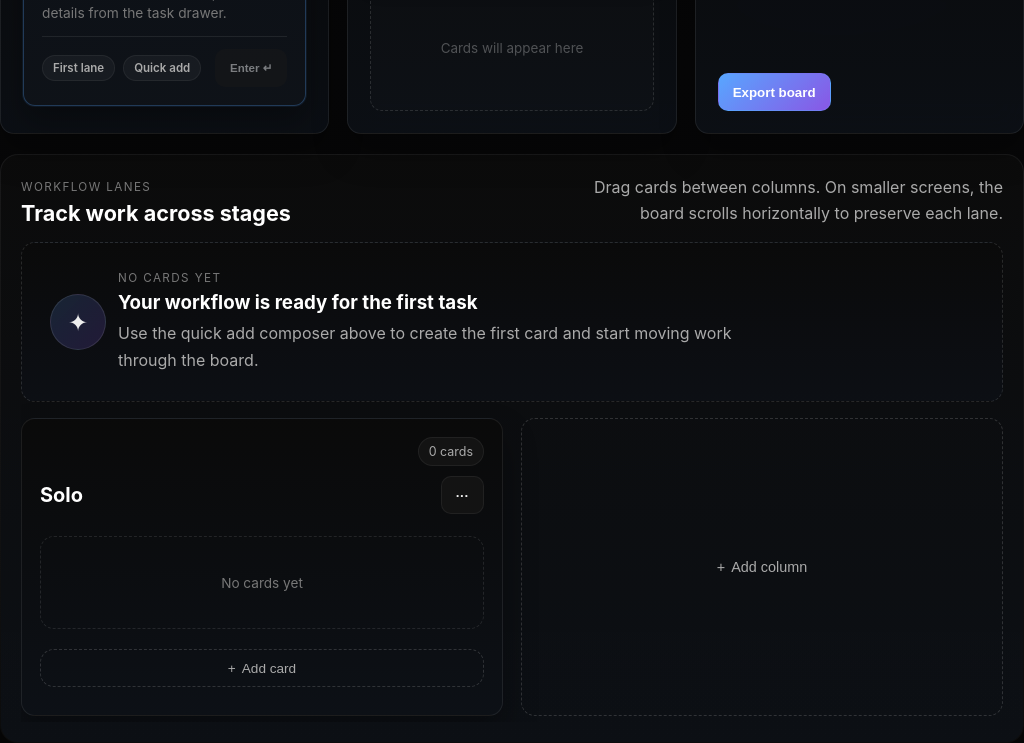
Test: allows deleting the last remaining column and returns to the empty state
The image size is (1024, 743).
(page scrolled)
Click the button named "open actions for column solo". click: coordinates (462, 495)
box: [441, 476, 484, 514]
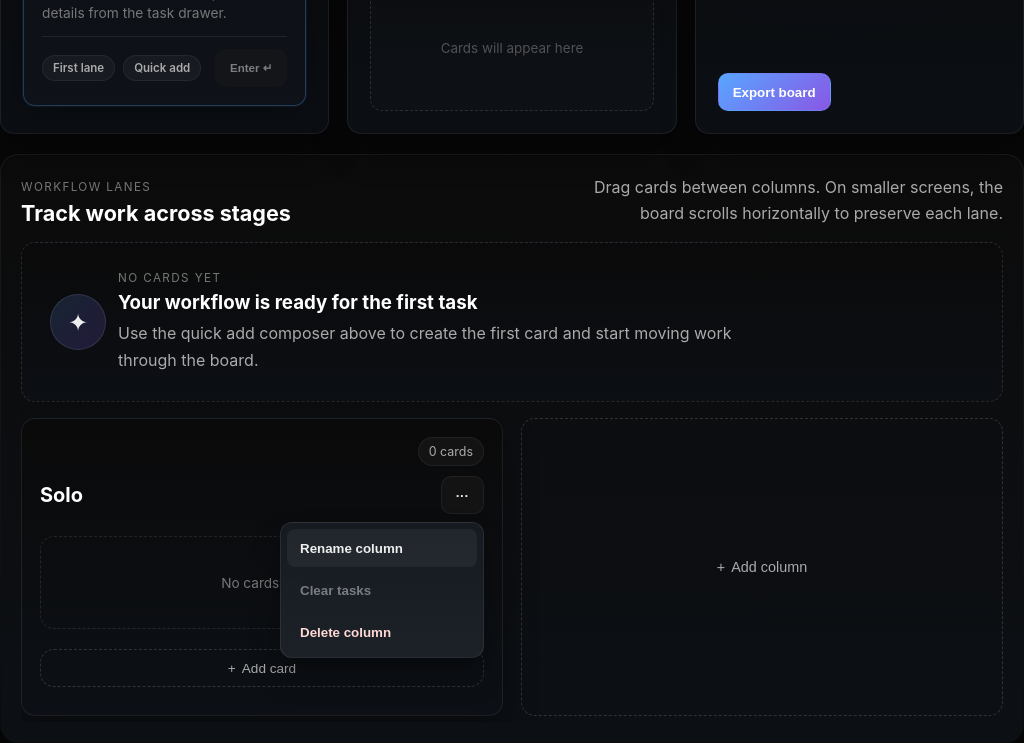
Click the menu item with aria-label "delete column solo". click: coordinates (382, 632)
box: [287, 613, 477, 651]
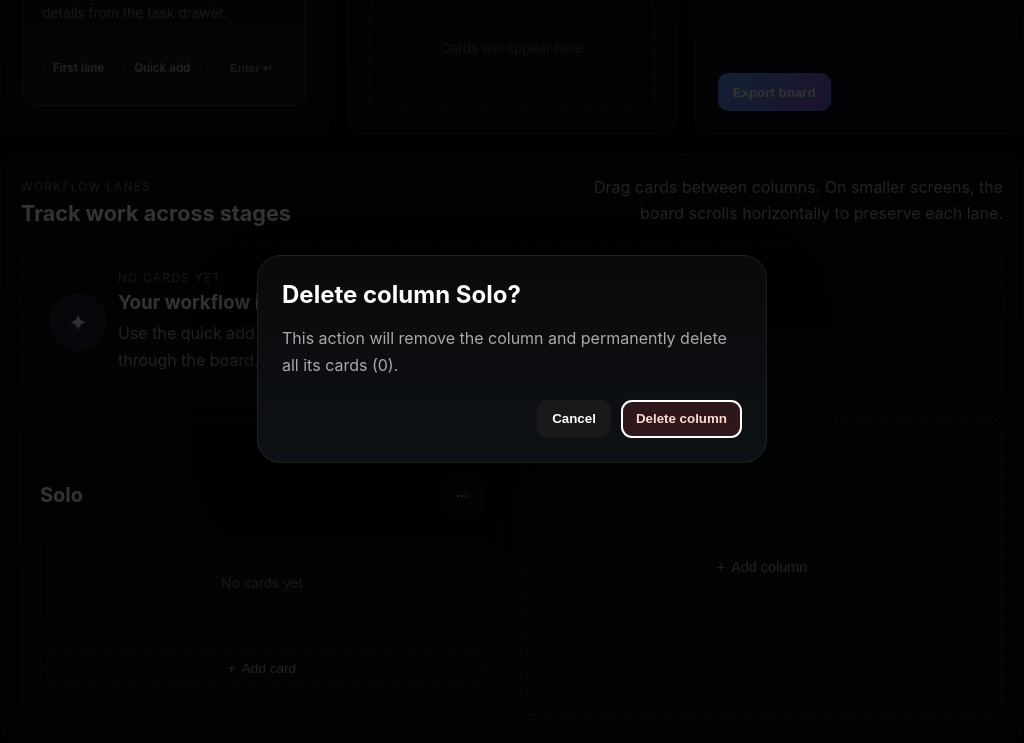
Now the text "This action will remove the column and permanently delete all its cards (0)" is shown, box [282, 325, 742, 378]
Click the button "Delete column". click: coordinates (681, 419)
box: [621, 400, 742, 438]
(page scrolled)
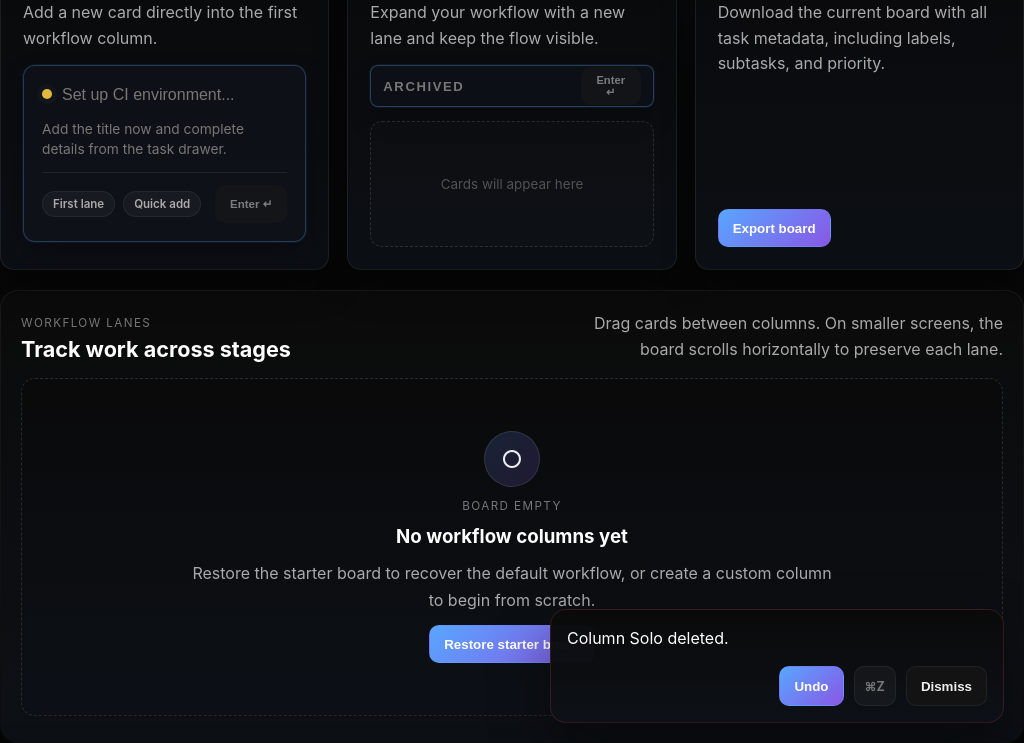
Now the heading "No workflow columns yet" is shown, box [396, 526, 628, 548]
